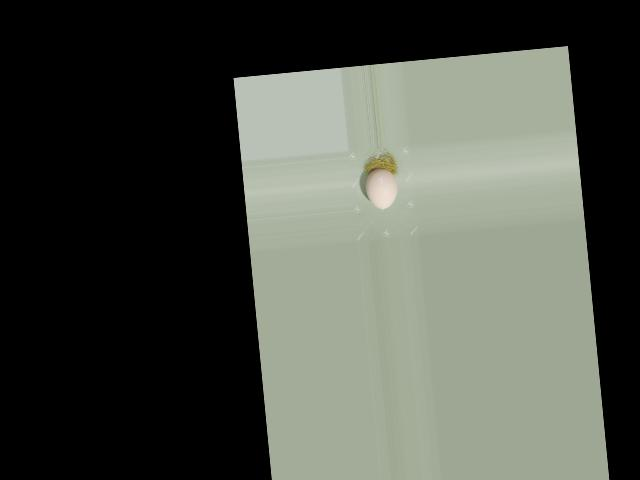egg: (364, 167, 398, 210)
